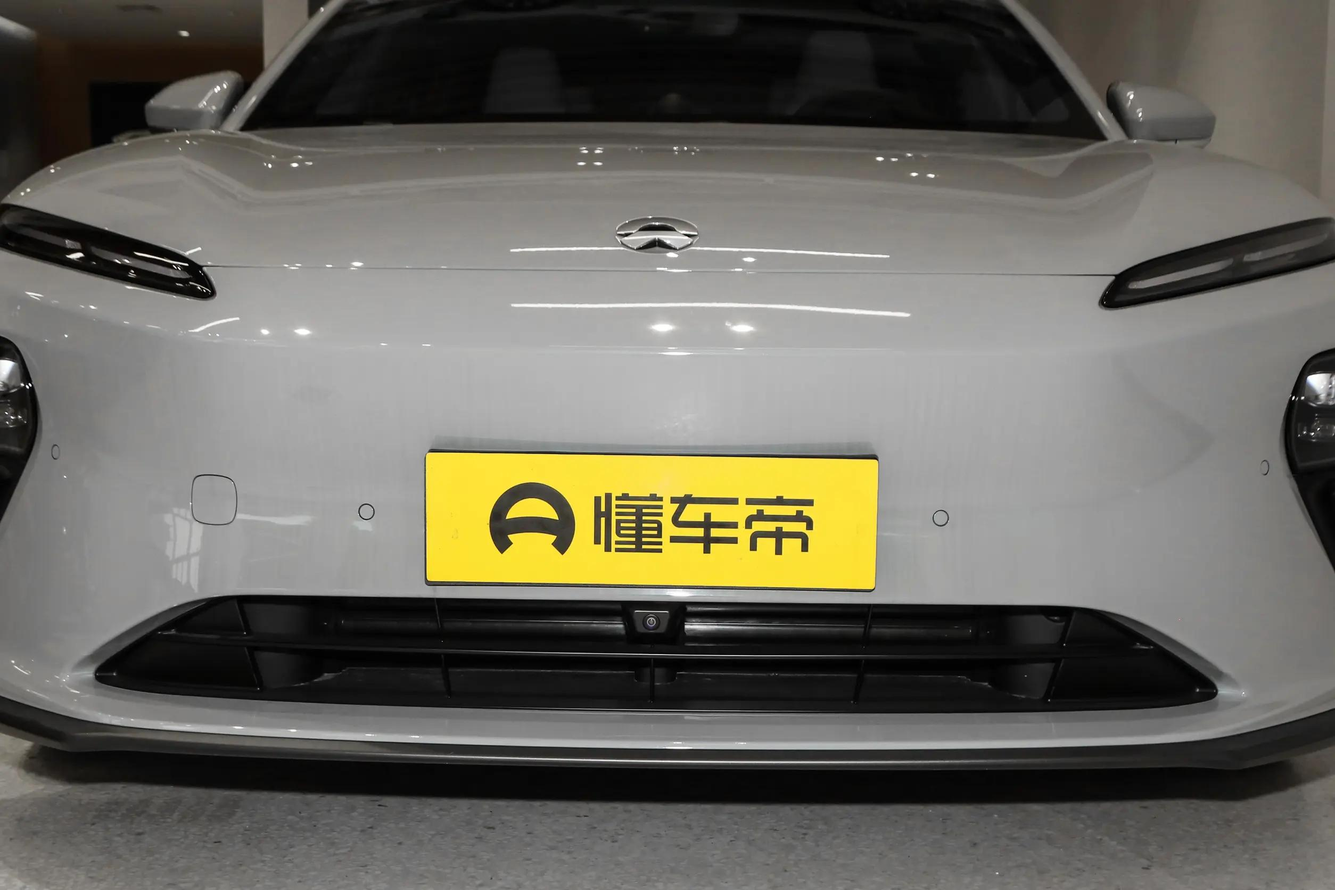NIO: (615, 216, 697, 253)
